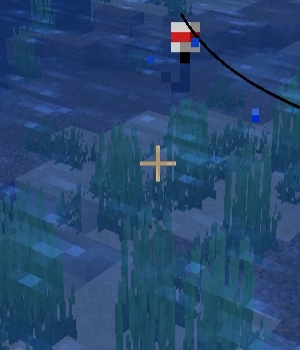up: (159, 12, 204, 94)
